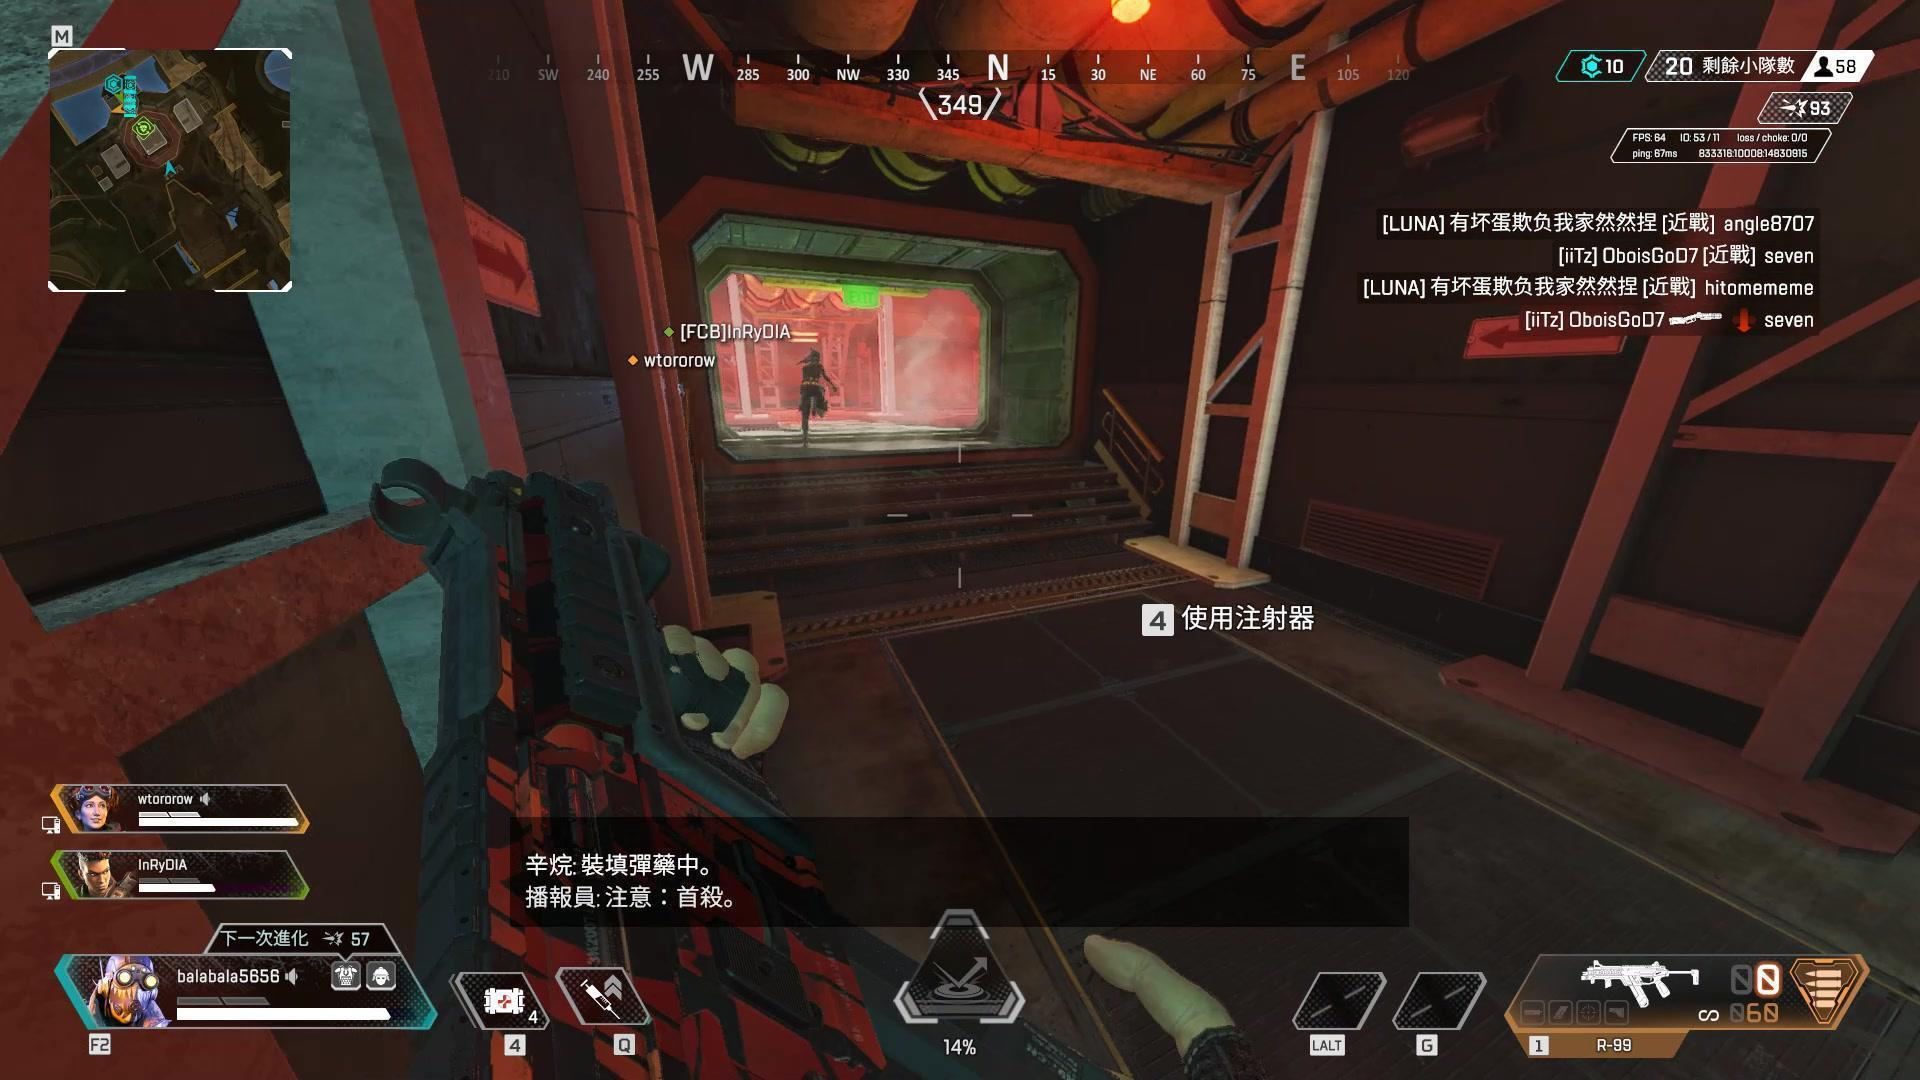avatar: (796, 348, 831, 451)
